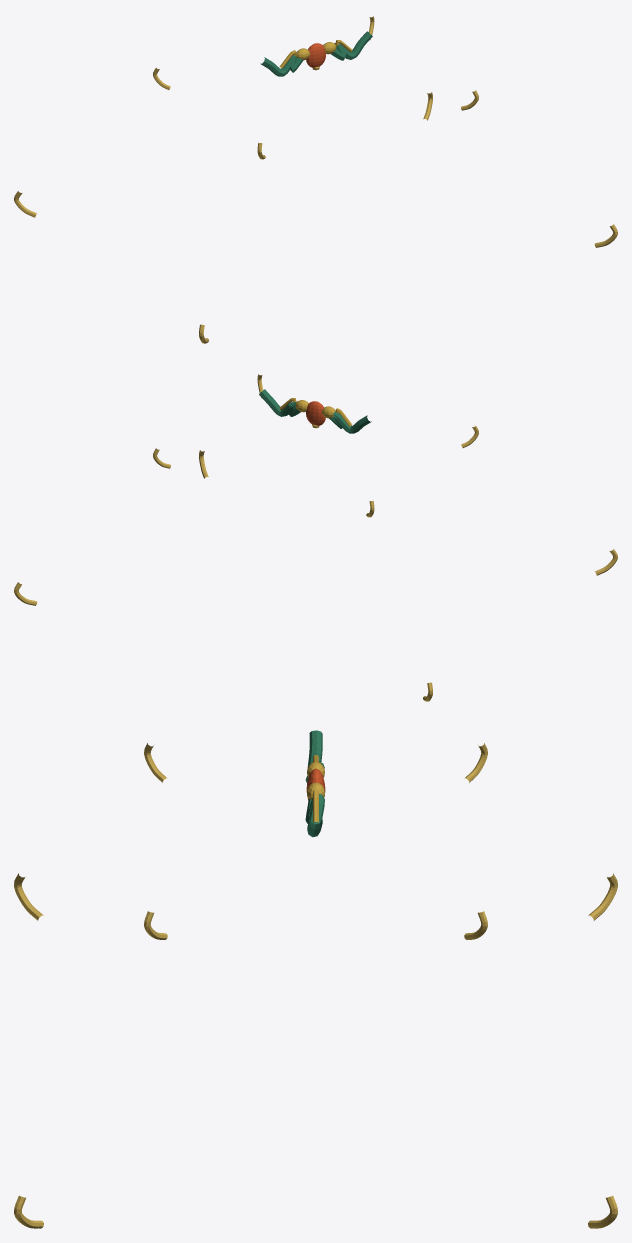
File: gate-nhado-hero.glb
3 renders of one model, top to bottom at view 1: azimuth 30°, elevation 25°; view 2: azimuth 150°, elevation 25°; view 3: azimuth 270°, elevation 25°, orthographic. The views are drawn at different scales.
Visible parts, largest first — view 1: gate_nhado_hero; view 2: gate_nhado_hero; view 3: gate_nhado_hero.
Part boxes in pixels (left/top/right/bottom): gate_nhado_hero: left=14, top=16, right=617, bottom=343; gate_nhado_hero: left=14, top=374, right=617, bottom=701; gate_nhado_hero: left=14, top=730, right=617, bottom=1228.
Bounding box in the file's own units: 11.61 × 5.01 × 9.01.
